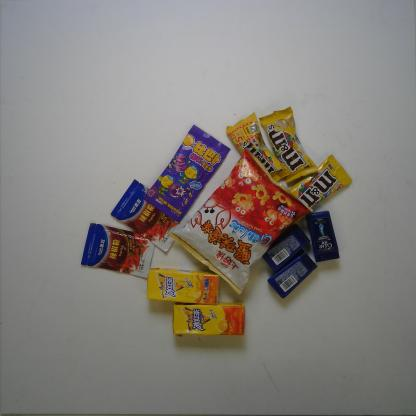Candy: (143, 122, 233, 224)
Chocolate: (224, 111, 294, 186), (261, 103, 318, 187), (283, 151, 355, 211)
Drink: (144, 266, 222, 306), (171, 302, 249, 340)
Personal Hygiene: (266, 248, 320, 303), (258, 223, 313, 274), (306, 209, 344, 265)
Puffed Food: (168, 144, 310, 300)
Seasoner: (108, 178, 181, 252), (79, 221, 160, 280)
